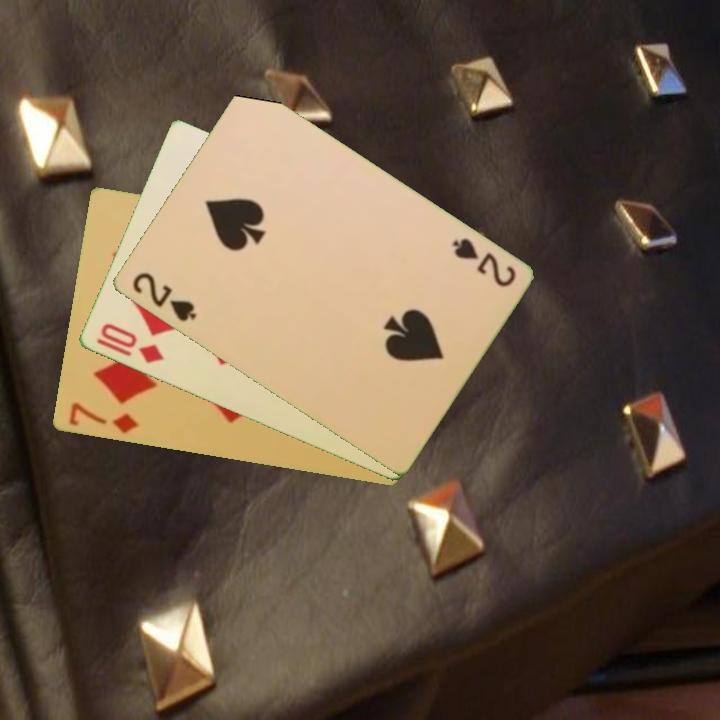10d: (96, 320, 167, 367)
2s: (128, 268, 199, 325), (448, 234, 519, 291)
7d: (65, 399, 141, 437)
